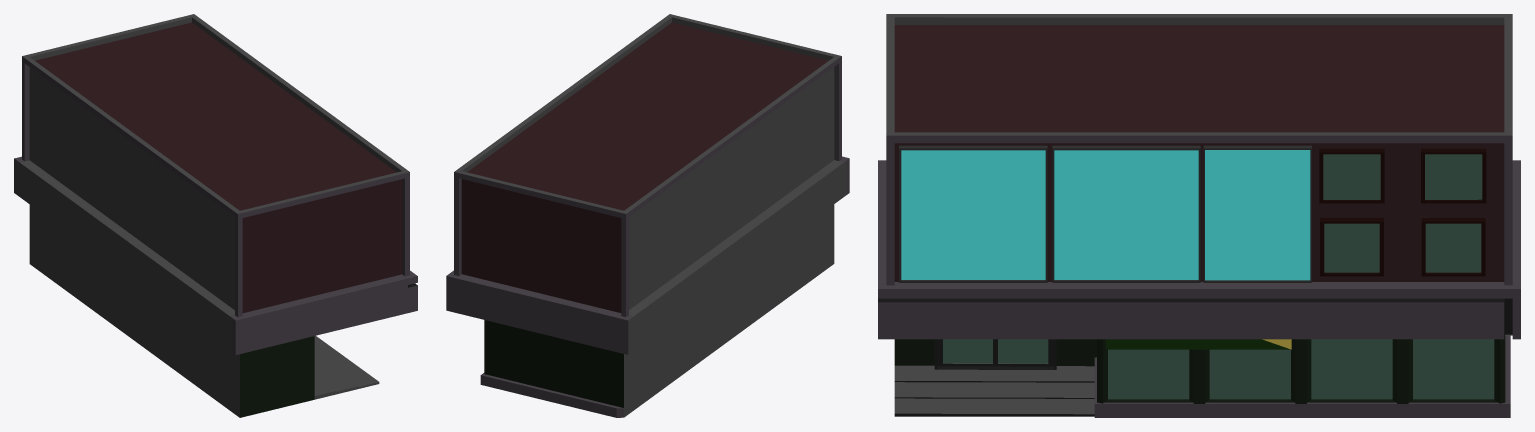
The model's file is PropBuildings_Corp.fbx.
3 views of the same model, side by side, from view 1: azimuth 30°, elevation 25°; view 2: azimuth 150°, elevation 25°; view 3: azimuth 270°, elevation 25° (orthographic). The views are drawn at different scales.
Parts seen in each view (by area): view 1: CorpBuilding_Body; view 2: CorpBuilding_Body; view 3: CorpBuilding_Body, Cube.025, Cube.026, Cube.027, CorpBuilding_Door, Cube.012.
Part boxes in pixels (left/top/right/bottom): CorpBuilding_Body: left=14, top=14, right=417, bottom=417; CorpBuilding_Body: left=446, top=14, right=849, bottom=417; CorpBuilding_Body: left=878, top=14, right=1520, bottom=417; Cube.025: left=899, top=145, right=1047, bottom=282; Cube.026: left=1052, top=145, right=1200, bottom=282; Cube.027: left=1203, top=145, right=1311, bottom=282; CorpBuilding_Door: left=934, top=339, right=1056, bottom=369; Cube.012: left=1106, top=339, right=1291, bottom=349.
Size of the model in its own units: 1846 by 2008 by 3892.
6 materials, 6 textured.
